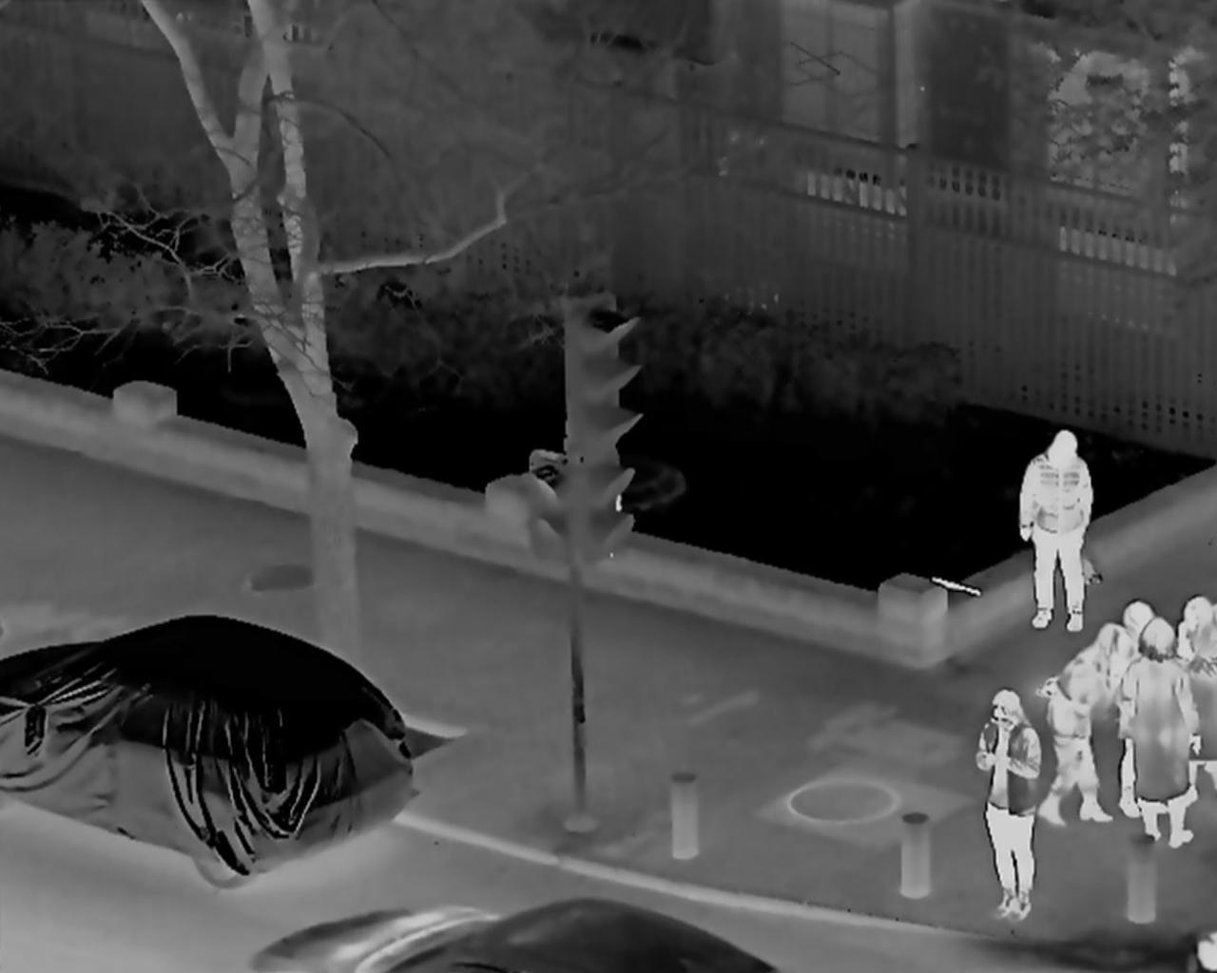person: (1012, 424, 1094, 637), (1126, 631, 1194, 850), (976, 692, 1037, 924), (1045, 625, 1115, 826), (1115, 603, 1171, 819), (1167, 597, 1217, 788)
